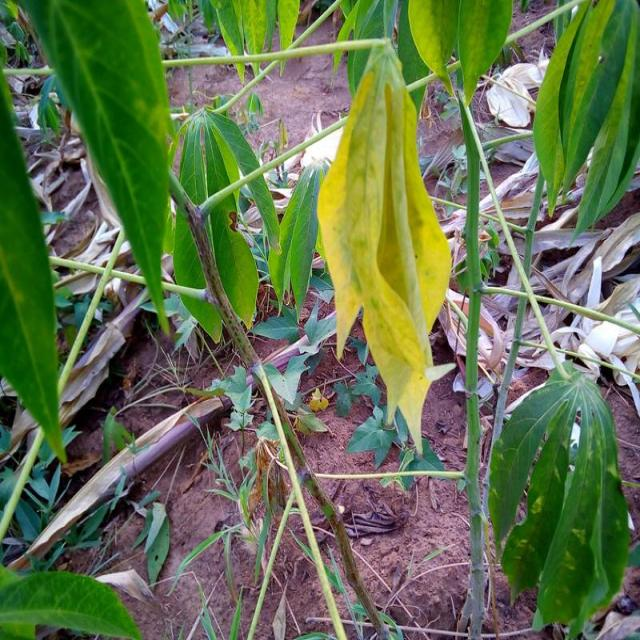cassava leaf: (315, 39, 456, 457), (18, 0, 174, 339), (486, 360, 630, 637), (0, 66, 67, 464), (531, 0, 639, 243), (171, 105, 278, 344)
